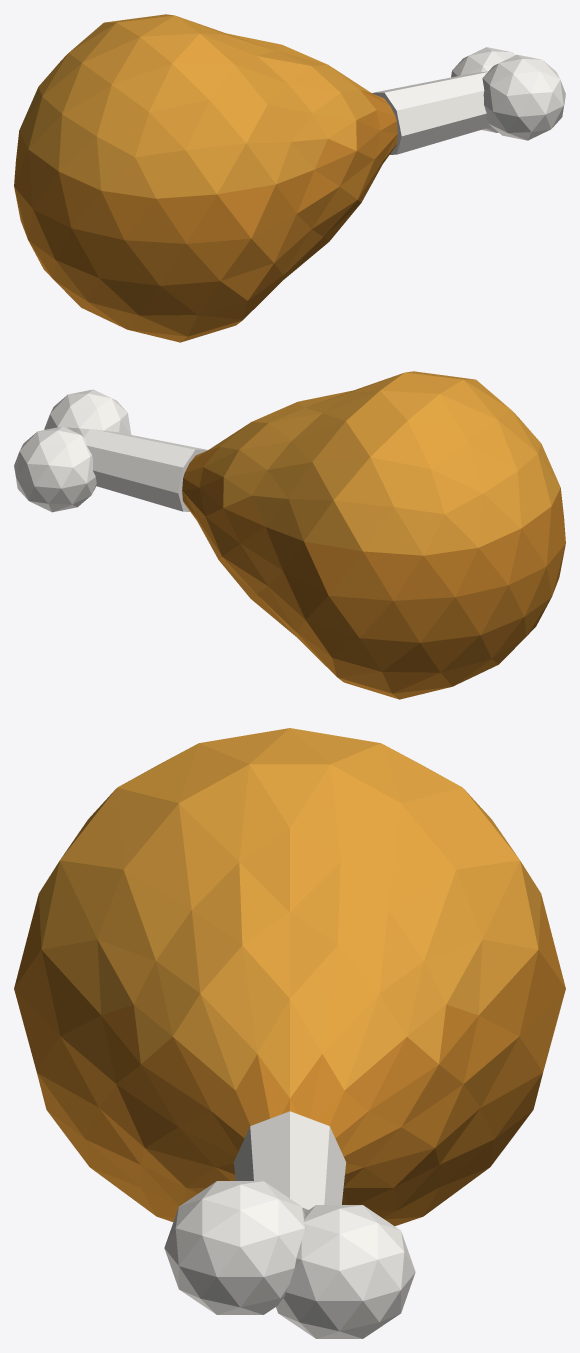
Rendered from chicken.glb.
3 views of the same model, one above another, from view 1: azimuth 30°, elevation 25°; view 2: azimuth 150°, elevation 25°; view 3: azimuth 270°, elevation 25° (orthographic). The views are drawn at different scales.
Visible parts, largest first — view 1: chicken; view 2: chicken; view 3: chicken.
Boxes of the visible parts, x1=… form: chicken: x1=14, y1=14, x2=565, y2=342; chicken: x1=14, y1=371, x2=565, y2=699; chicken: x1=14, y1=728, x2=565, y2=1338.
Bounding box in the file's own units: 1.18 × 0.6609 × 0.6764.
